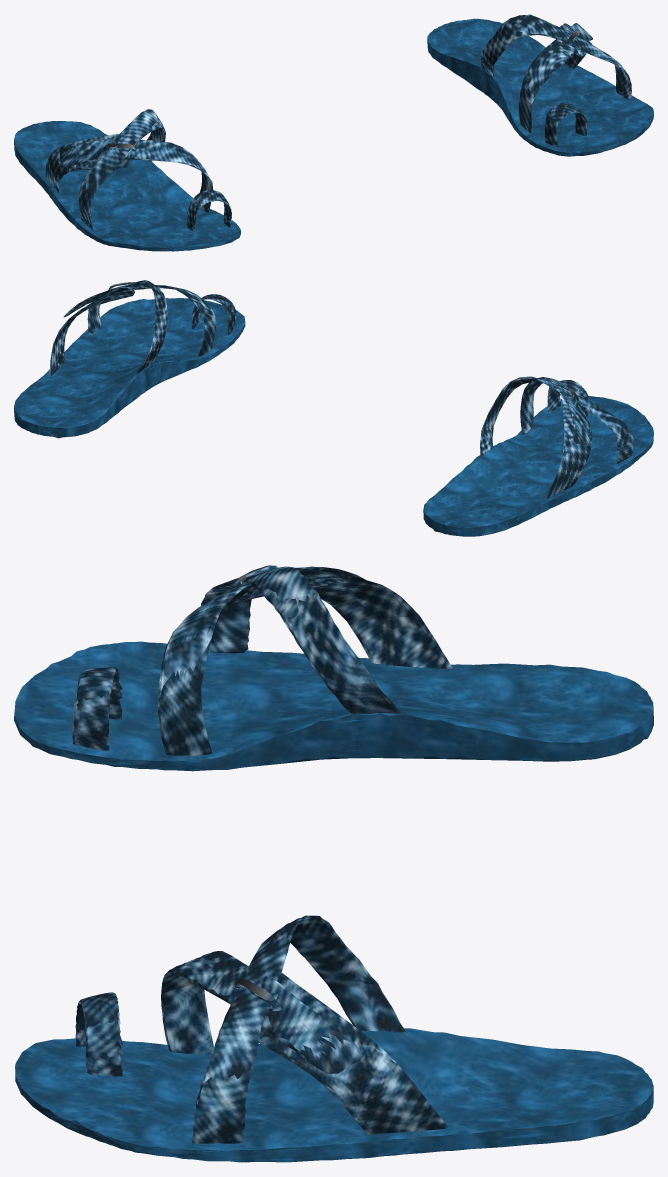
File: mhw_elvs_male_flip_flop_sandals1.glb
3 renders of one model, top to bottom at view 1: azimuth 30°, elevation 25°; view 2: azimuth 150°, elevation 25°; view 3: azimuth 270°, elevation 25°, orthographic. The views are drawn at different scales.
Visible parts, largest first — view 1: mhw_elvs_male_flip_flop_sandals1; view 2: mhw_elvs_male_flip_flop_sandals1; view 3: mhw_elvs_male_flip_flop_sandals1.
Part boxes in pixels (x1,y1,x2,y2): mhw_elvs_male_flip_flop_sandals1: (14, 14, 653, 251); mhw_elvs_male_flip_flop_sandals1: (14, 280, 653, 536); mhw_elvs_male_flip_flop_sandals1: (14, 565, 653, 1162).
Bounding box in the file's own units: 0.5555 × 0.0905 × 0.298.
1 material, 1 textured.
